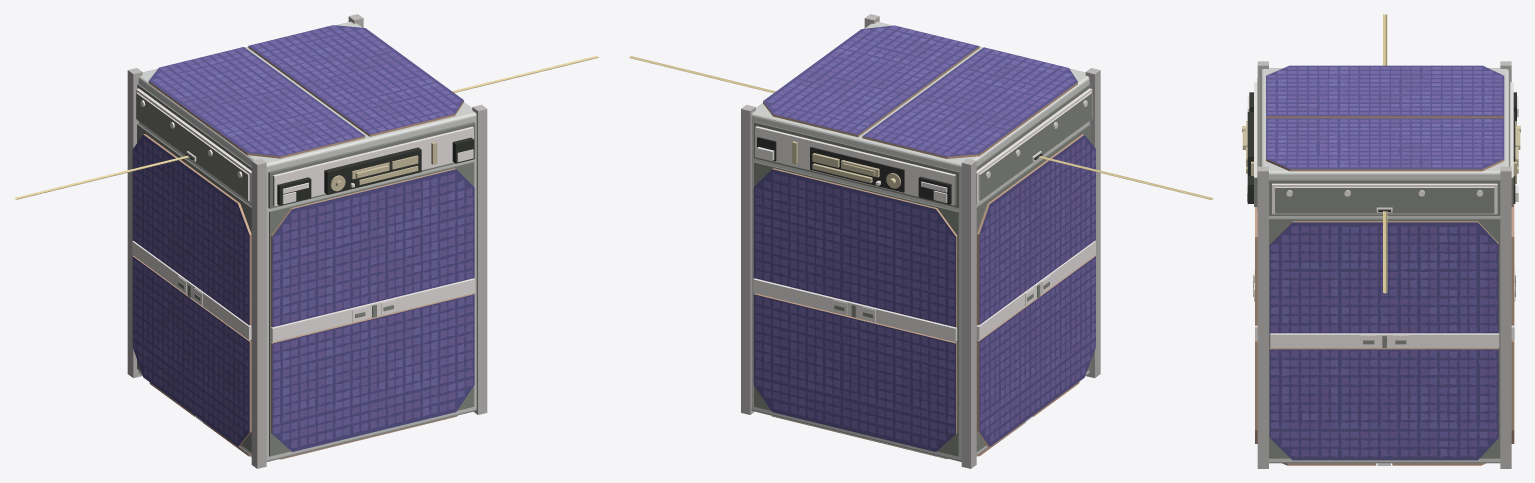
The model's file is space-cubesat-1ru.glb.
3 renders of one model, left to right at view 1: azimuth 30°, elevation 25°; view 2: azimuth 150°, elevation 25°; view 3: azimuth 270°, elevation 25°, orthographic. The views are drawn at different scales.
Visible parts, largest first — view 1: Layer_0; view 2: Layer_0; view 3: Layer_0.
Boxes of the visible parts, x1,y1,x2,y2 form: Layer_0: (14,14,598,468); Layer_0: (629,14,1213,468); Layer_0: (1242,14,1520,468).
Bounding box in the file's own units: 5.19 × 2.6 × 2.2.
2 materials, 2 textured.
